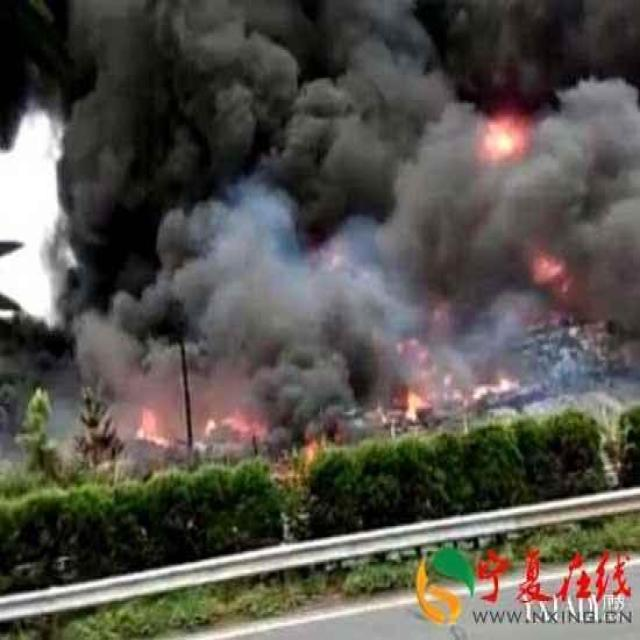fire: (481, 112, 526, 154), (216, 407, 266, 437), (136, 406, 168, 445), (398, 384, 428, 420), (530, 251, 566, 281), (300, 431, 321, 459)
smoke: (0, 0, 638, 401)
